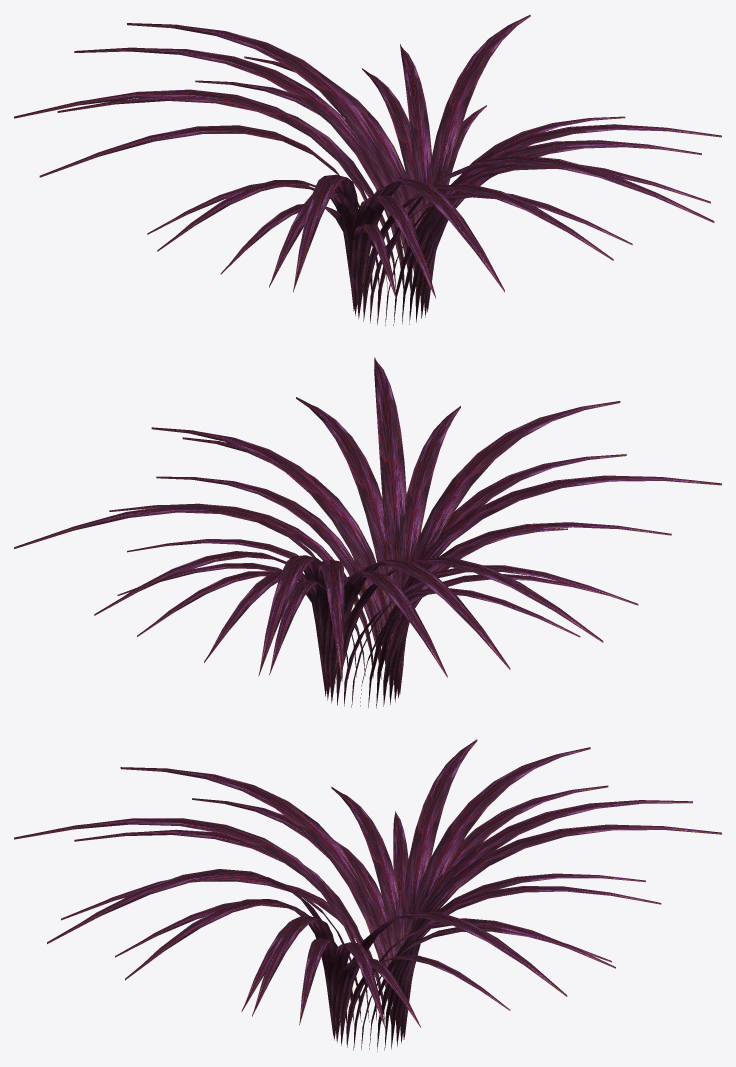
The model's file is finegrass_meadow_06.glb.
The picture shows the model from 3 angles, top to bottom: view 1: azimuth 30°, elevation 25°; view 2: azimuth 150°, elevation 25°; view 3: azimuth 270°, elevation 25°; orthographic projection. The views are drawn at different scales.
Visible parts, largest first — view 1: export; view 2: export; view 3: export.
Boxes of the visible parts, x1=… form: export: x1=14, y1=14, x2=721, y2=325; export: x1=14, y1=357, x2=721, y2=708; export: x1=14, y1=739, x2=721, y2=1051.
Size of the model in its own units: 1.41 by 0.4832 by 1.59.
1 material, 1 textured.
